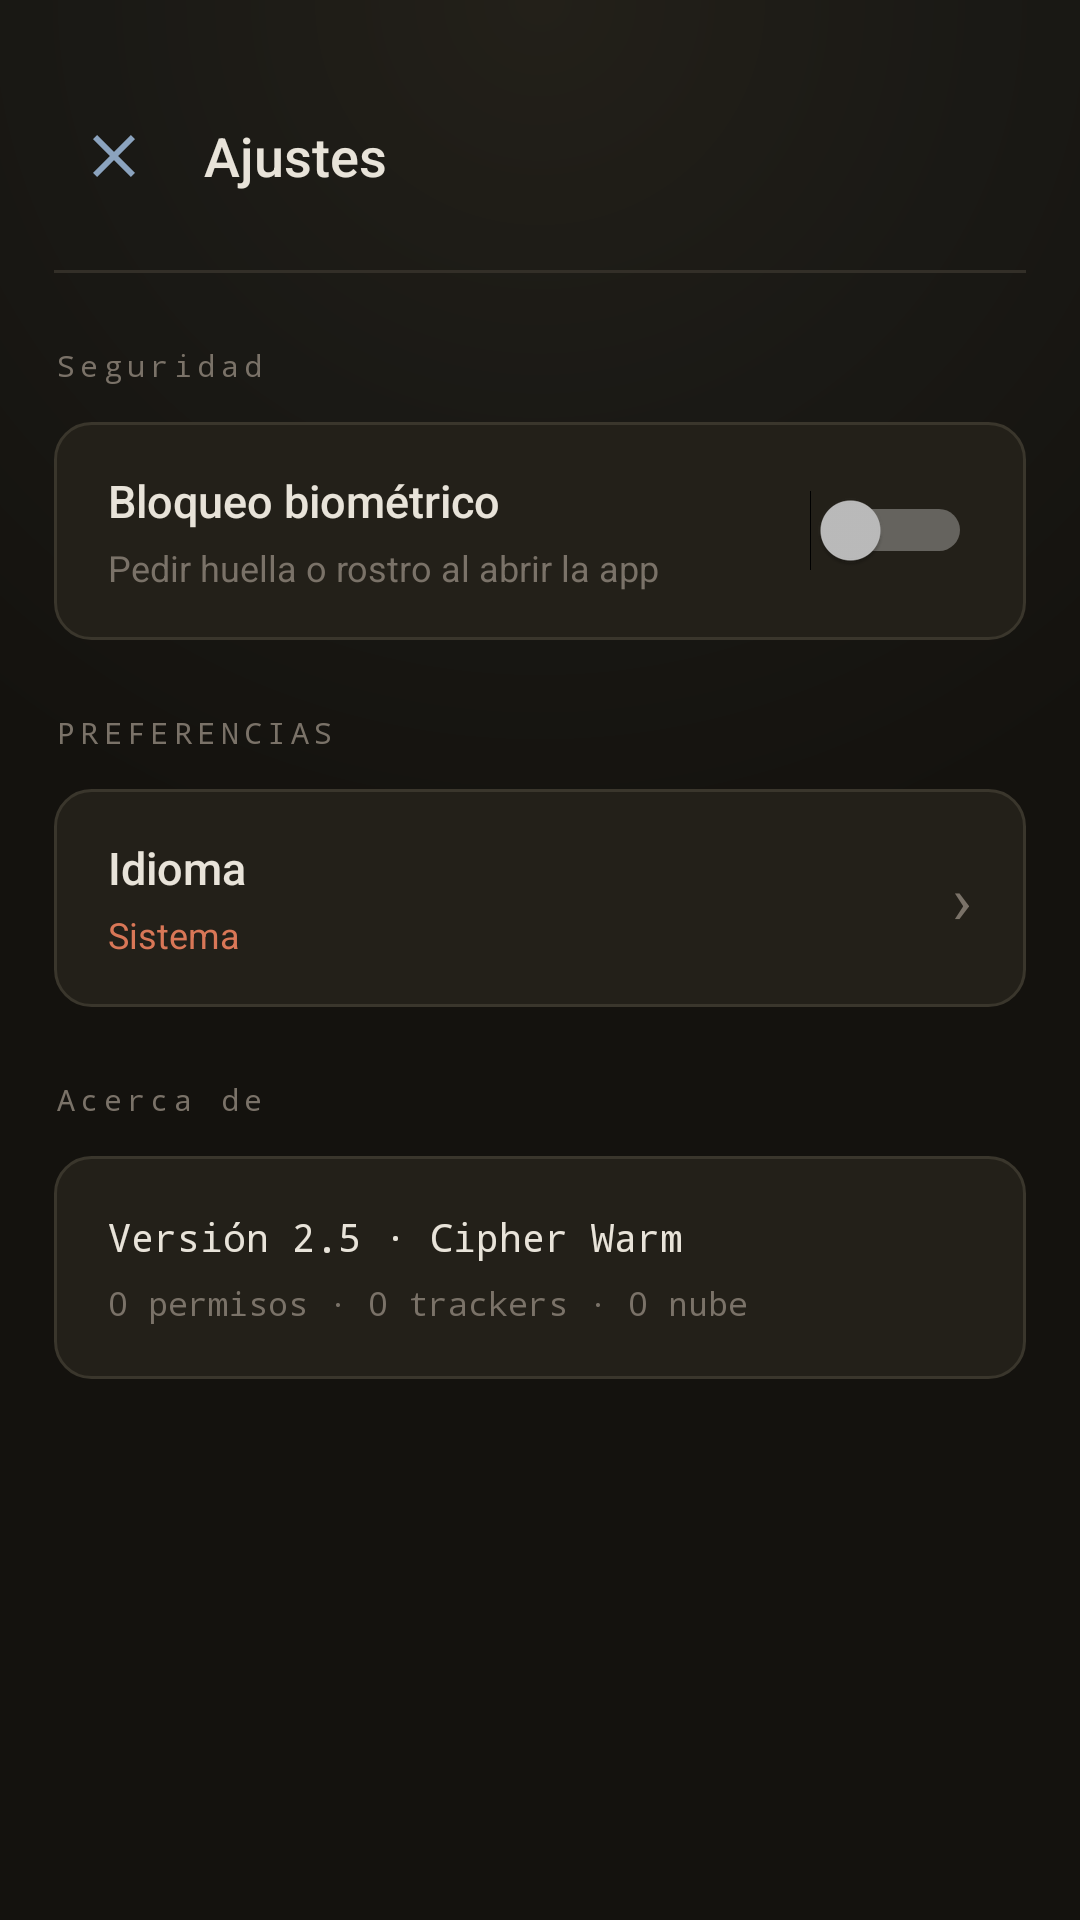

Screen size 1080px×1920px. Icon name, then its center in pixels as point (x, y):
Volver: point (114, 156)
